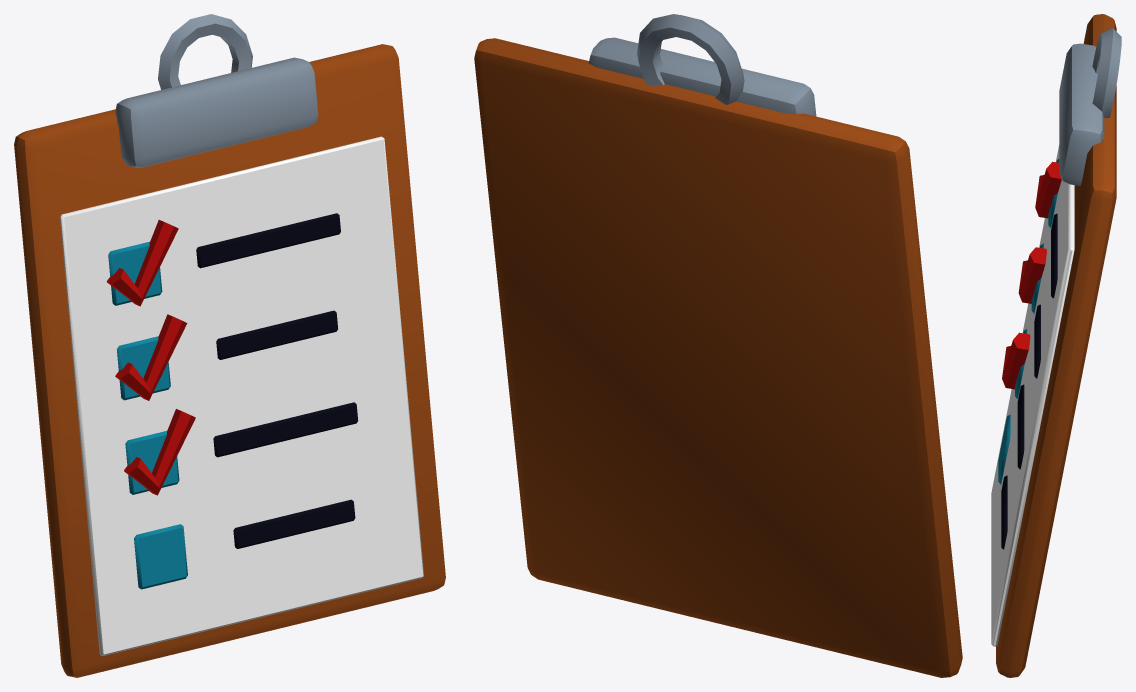
Rendered from Clipboard.fbx.
The picture shows the model from 3 angles, left to right: view 1: azimuth 30°, elevation 25°; view 2: azimuth 150°, elevation 25°; view 3: azimuth 270°, elevation 25°; orthographic projection. The views are drawn at different scales.
Parts seen in each view (by area): view 1: Clipboard; view 2: Clipboard; view 3: Clipboard.
Boxes of the visible parts, x1,y1,x2,y2 form: Clipboard: (14, 14, 445, 677); Clipboard: (474, 14, 962, 677); Clipboard: (991, 14, 1121, 677).
Bounding box in the file's own units: 2 × 2.9 × 0.6118.
